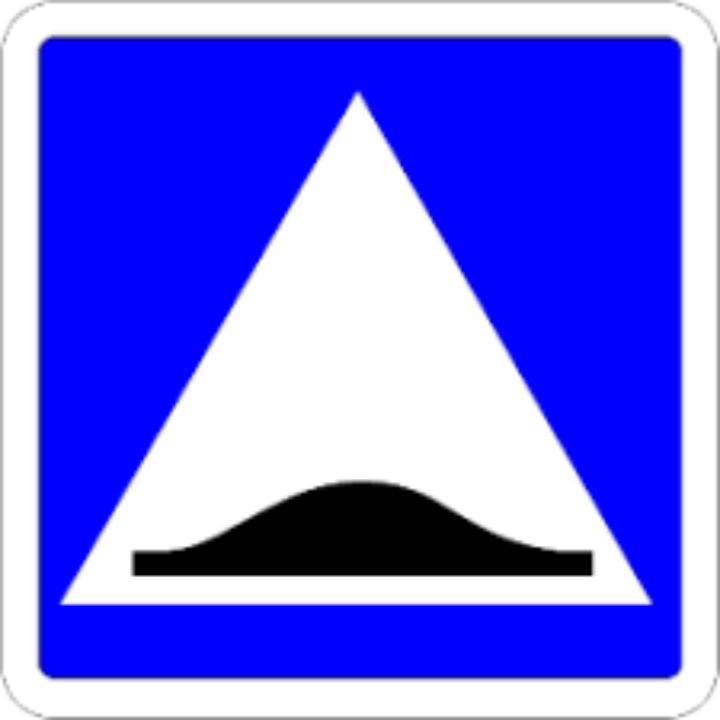bump: (123, 451, 595, 613)
